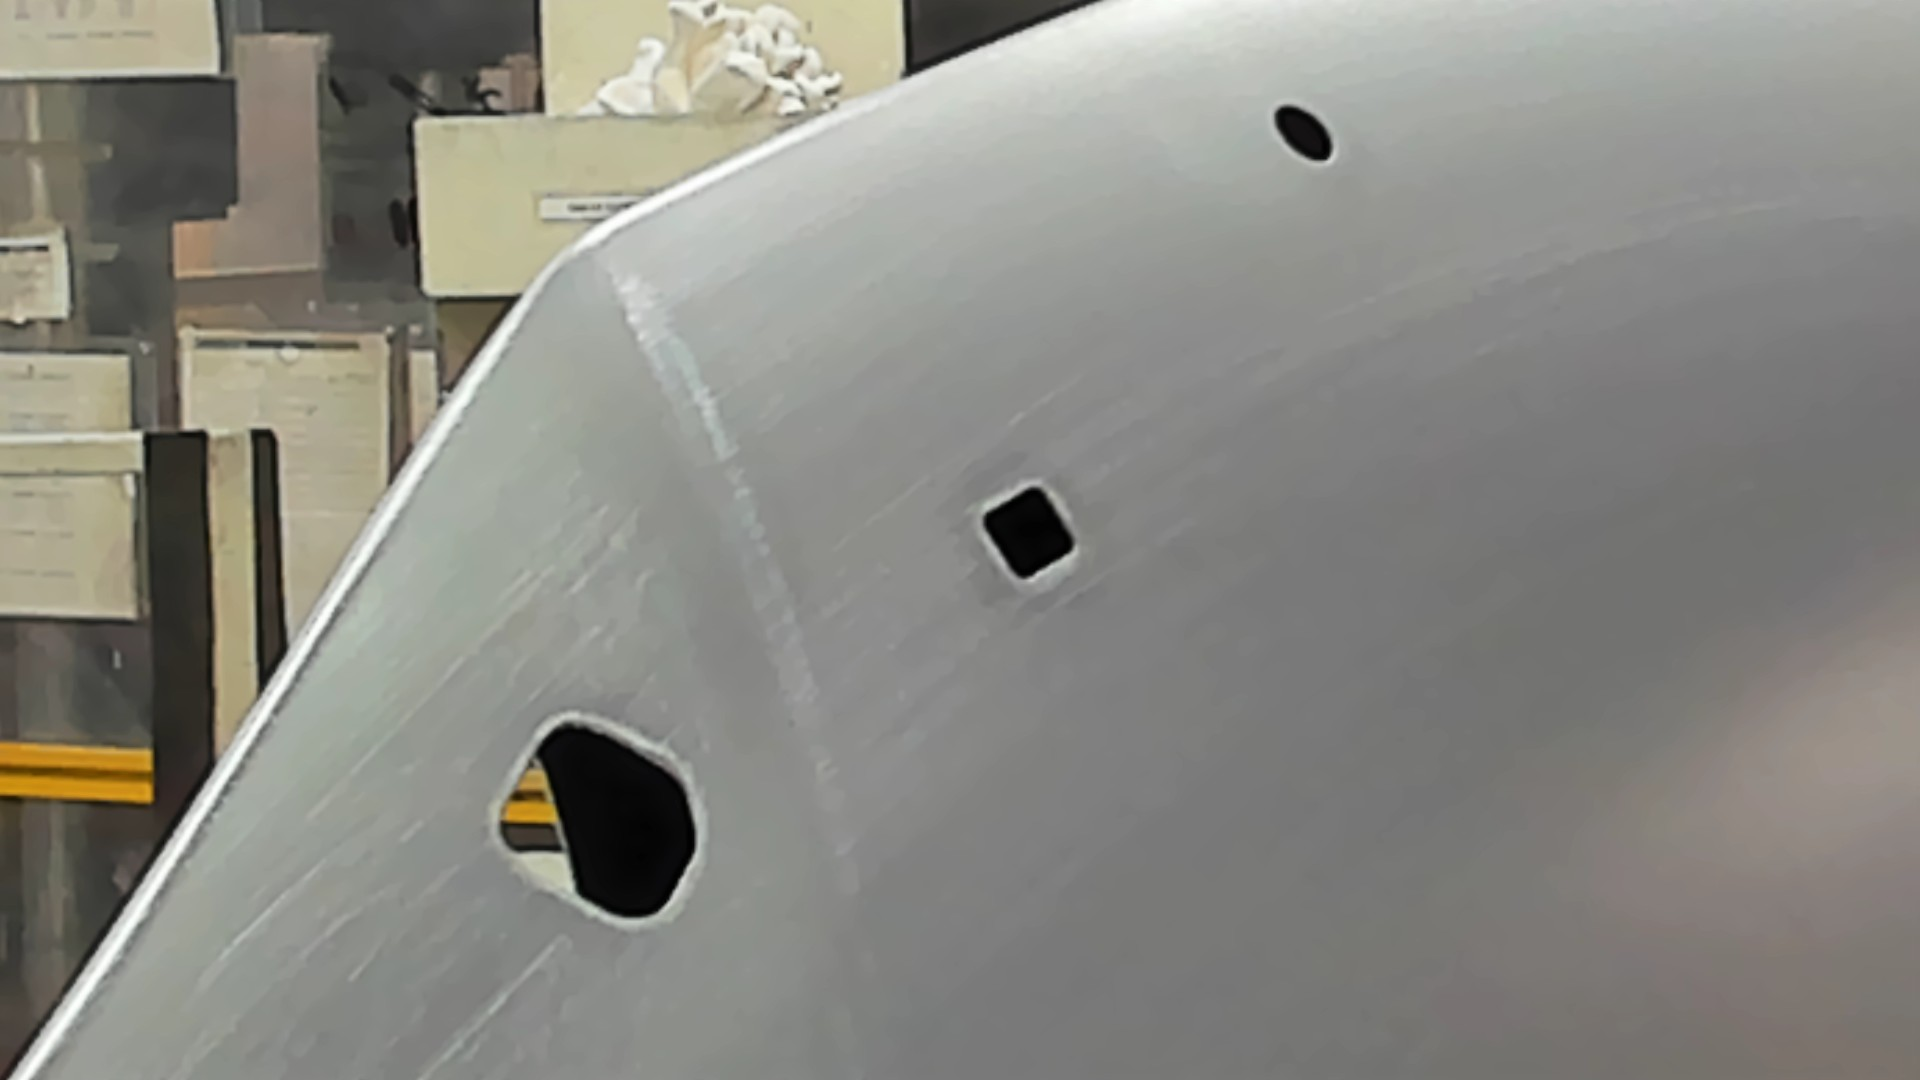capo: (1089, 175, 1920, 1080)
chico: (1269, 100, 1338, 170)
grande: (475, 704, 713, 940)
mediano: (968, 472, 1087, 589)
